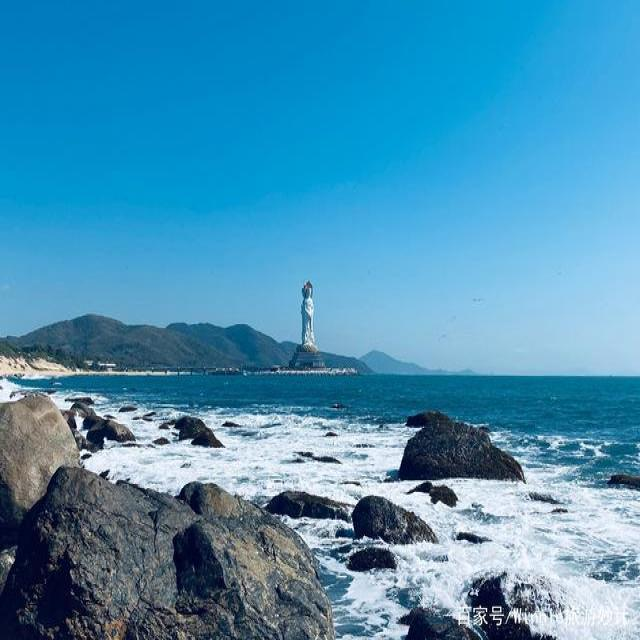island: (17, 306, 367, 385)
